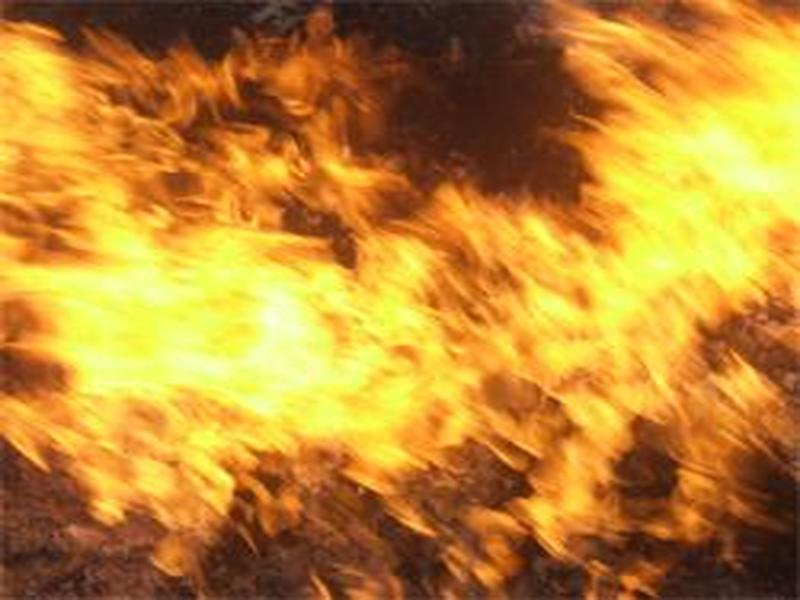FIRE: (16, 82, 800, 551)
